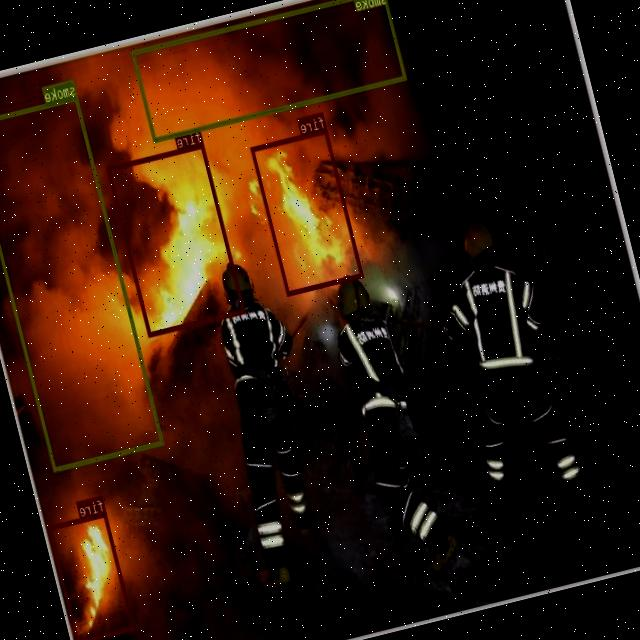fire: (107, 142, 246, 336), (250, 127, 364, 295), (47, 510, 134, 640)
smoke: (0, 94, 164, 471), (131, 0, 407, 141)
